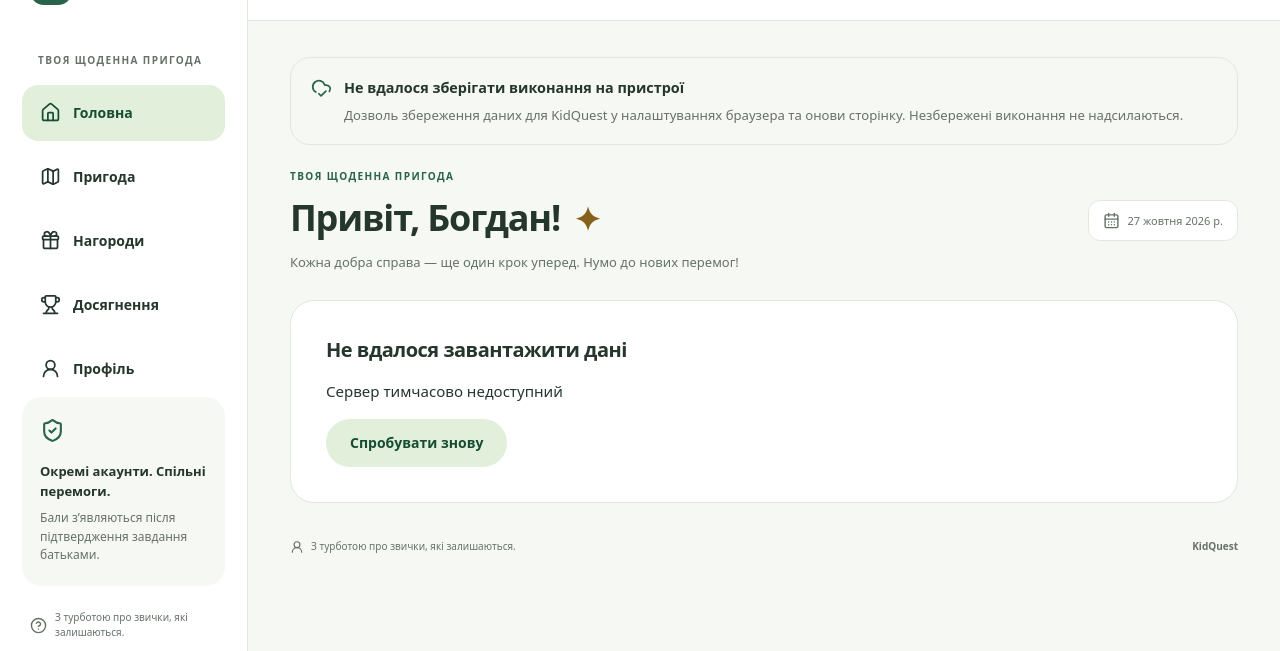
it: Role-specific dashboards › shows an API error and retries successfully on request
Expected: the message "Не вдалося завантажити дані Сервер тимчасово недоступний Спробувати знову" is shown, left=290, top=300, right=1238, bottom=503
Click the button "Спробувати знову" at (417, 443), box left=326, top=419, right=508, bottom=467
(page scrolled)
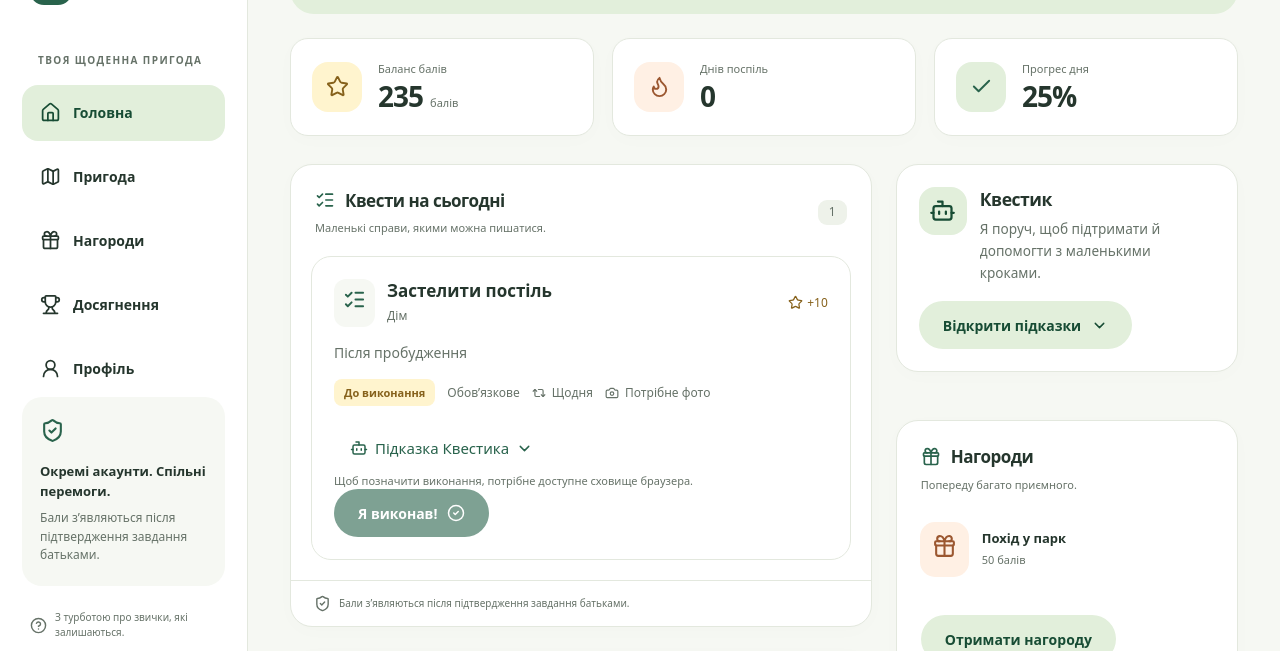
Expected: the heading "Застелити постіль" is shown, left=387, top=279, right=552, bottom=302
